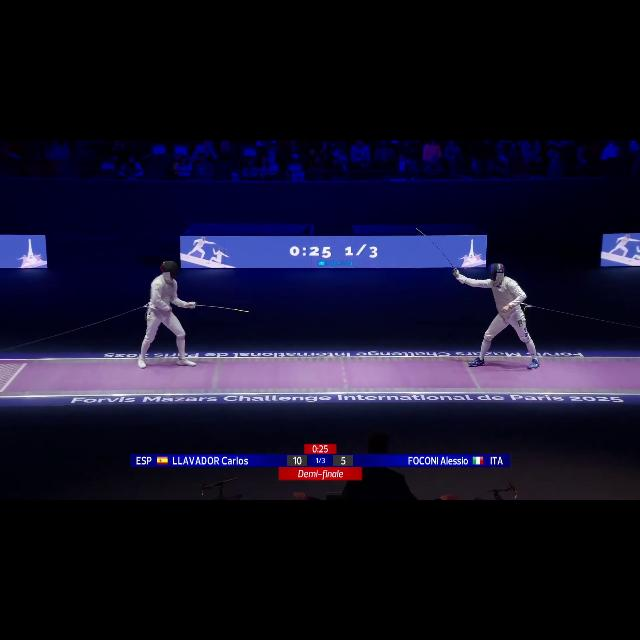blade: (414, 225, 460, 279), (190, 300, 254, 318)
